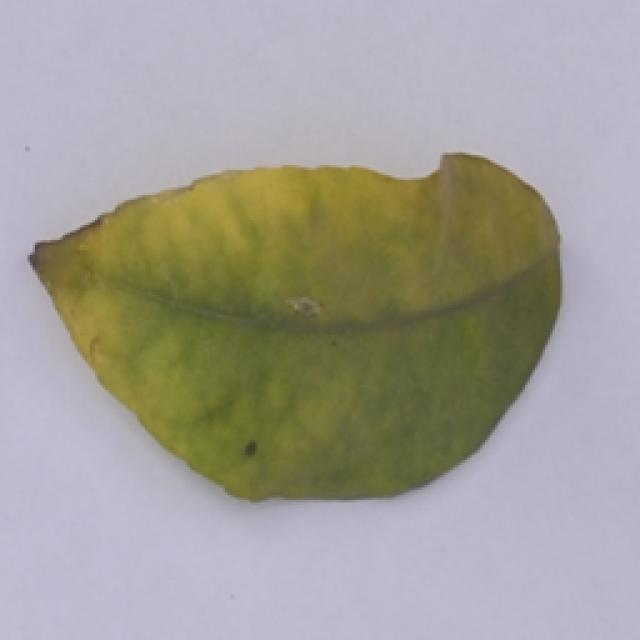greening: (21, 138, 575, 536)
